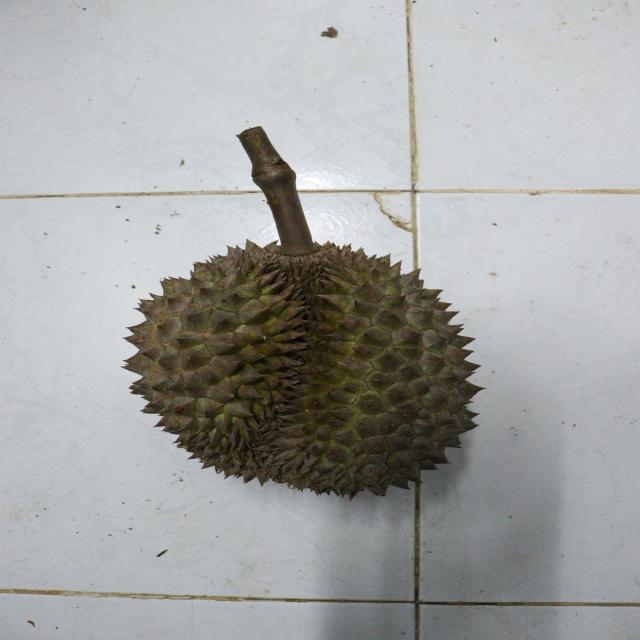mature: (124, 241, 487, 499)
